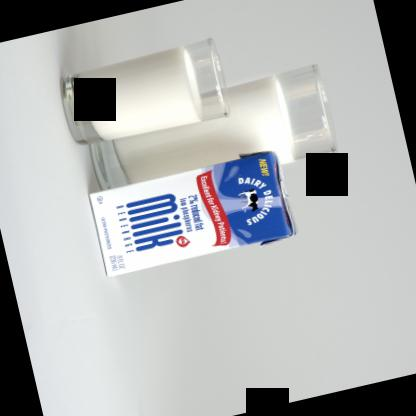milk: (81, 63, 343, 214), (82, 148, 300, 280), (55, 36, 235, 151)
